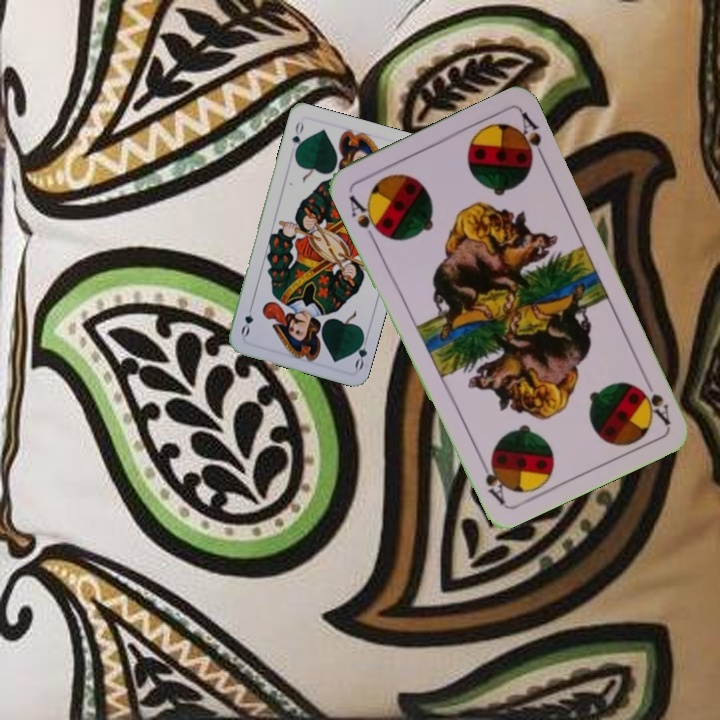GO: (350, 331, 371, 372), (288, 118, 306, 158)
SA: (631, 371, 674, 428), (345, 191, 386, 244)
